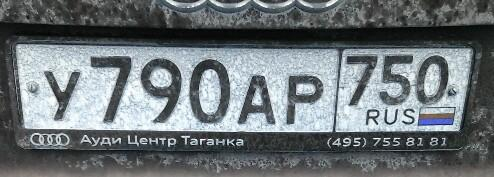license-plateSW: (14, 42, 476, 136)
